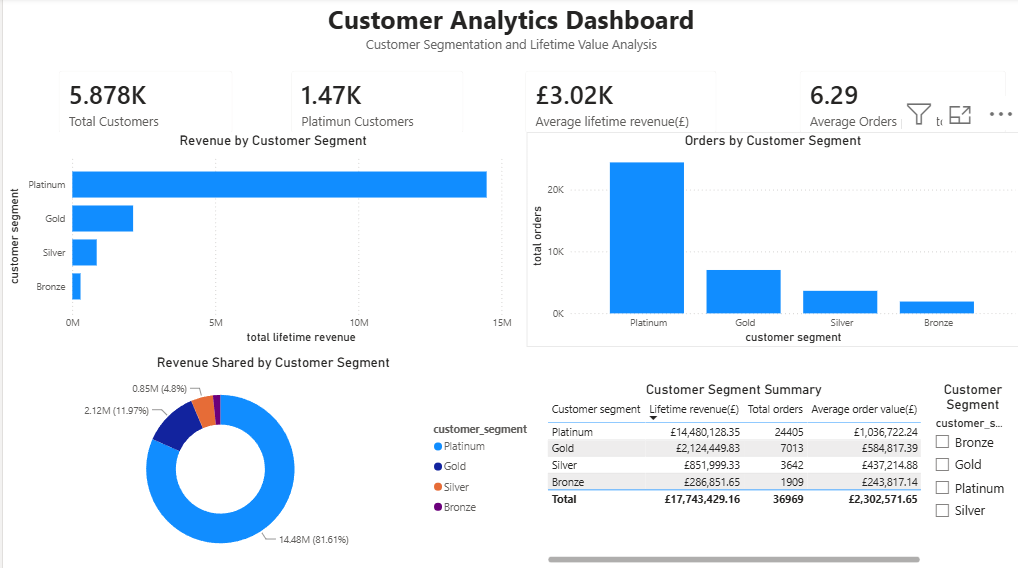

This screenshot's page, from the dashboard's own definition file:
{"tool":"powerbi","page":{"name":"Page 2","canvas":[1280,720],"ordinal":1},"visuals":[{"type":"textbox","box":[0,0,1280.8,75],"z":0},{"type":"cardVisual","fields":{"Data":["Count(dashboard_customer_segments.customer_id)"]},"box":[53.8,75,253.8,113.5],"z":1000},{"type":"cardVisual","fields":{"Data":["Avg(dashboard_customer_segments.lifetime_revenue)"]},"box":[640.4,75,275,113.5],"z":2000},{"type":"cardVisual","fields":{"Data":["Avg(dashboard_customer_segments.total_orders)"]},"box":[986.5,75,294.2,113.5],"z":3000},{"type":"cardVisual","fields":{"Data":["Count(dashboard_customer_segments.customer_id)"]},"box":[346.2,75,251.9,113.5],"z":4000},{"type":"clusteredBarChart","title":"Revenue by Customer Segment","fields":{"Category":["dashboard_customer_segments.customer_segment"],"Y":["Sum(dashboard_customer_segments.lifetime_revenue)"]},"box":[0,169.2,680.8,271.2],"z":5000},{"type":"clusteredColumnChart","title":"Orders by Customer Segment","fields":{"Category":["dashboard_customer_segments.customer_segment"],"Y":["Sum(dashboard_customer_segments.total_orders)"]},"box":[659.6,169.2,621.2,271.2],"z":6000},{"type":"donutChart","title":"Revenue Shared by Customer Segment","fields":{"Category":["dashboard_customer_segments.customer_segment"],"Y":["Sum(dashboard_customer_segments.lifetime_revenue)"]},"box":[0,450,681,270],"z":7000},{"type":"tableEx","title":"Customer Segment Summary","fields":{"Values":["dashboard_customer_segments.customer_segment","Sum(dashboard_customer_segments.lifetime_revenue)","Sum(dashboard_customer_segments.total_orders)","Sum(dashboard_customer_segments.average_order_value)"]},"box":[680.8,484.6,480.8,234.6],"z":8000},{"type":"slicer","title":"Customer Segment","fields":{"Values":["dashboard_customer_segments.customer_segment"]},"box":[1161.5,484.6,119.2,234.6],"z":9000}]}

Visuals, with their boxes in screenshot pixels (x1, y1, x2, y2), scaled from the page's 1280x720 canvas onto the 1018x568 screenshot:
textbox: l=0, t=0, r=1017, b=59
cardVisual - Count(dashboard_customer_segments.customer_id): l=43, t=59, r=245, b=149
cardVisual - Avg(dashboard_customer_segments.lifetime_revenue): l=509, t=59, r=728, b=149
cardVisual - Avg(dashboard_customer_segments.total_orders): l=785, t=59, r=1017, b=149
cardVisual - Count(dashboard_customer_segments.customer_id): l=275, t=59, r=476, b=149
"Revenue by Customer Segment" clusteredBarChart: l=0, t=133, r=541, b=347
"Orders by Customer Segment" clusteredColumnChart: l=525, t=133, r=1017, b=347
"Revenue Shared by Customer Segment" donutChart: l=0, t=355, r=542, b=567
"Customer Segment Summary" tableEx: l=541, t=382, r=924, b=567
"Customer Segment" slicer: l=924, t=382, r=1017, b=567
